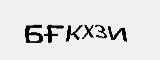Б: (23, 24, 43, 45)
З: (94, 24, 108, 40)
И: (107, 25, 127, 42)
К: (64, 24, 81, 42)
Х: (81, 24, 95, 40)
Ғ: (44, 25, 64, 44)
